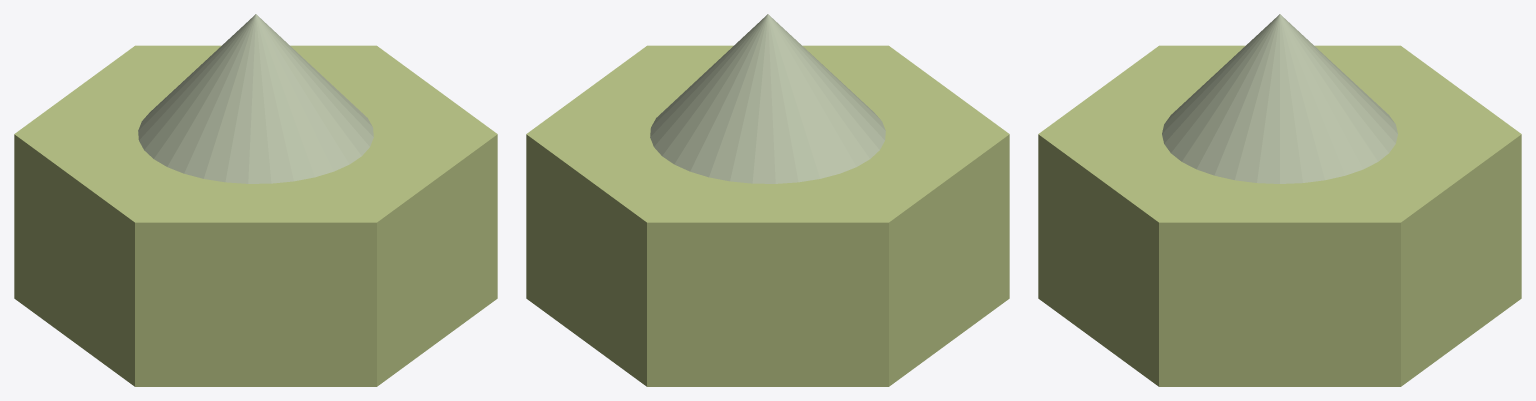
The model's file is hex_mountain.fbx.
3 views of the same model, side by side, from view 1: azimuth 30°, elevation 25°; view 2: azimuth 150°, elevation 25°; view 3: azimuth 270°, elevation 25° (orthographic).
Parts seen in each view (by area): view 1: hex, 원뿔; view 2: hex, 원뿔; view 3: hex, 원뿔.
Boxes of the visible parts, x1,y1,x2,y2 form: hex: (14,45,497,386); 원뿔: (138,14,373,183); hex: (526,45,1009,386); 원뿔: (650,14,885,183); hex: (1038,45,1521,386); 원뿔: (1162,14,1397,183).
Bounding box in the file's own units: 173 × 130 × 200.
